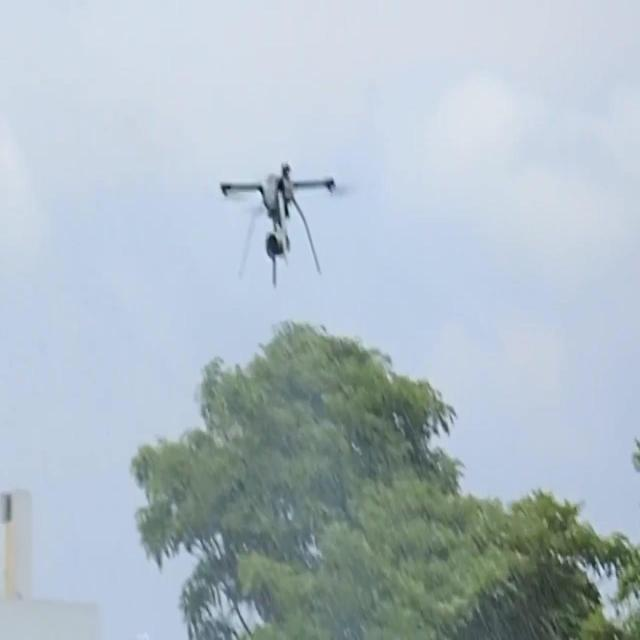drone: (212, 160, 333, 290)
